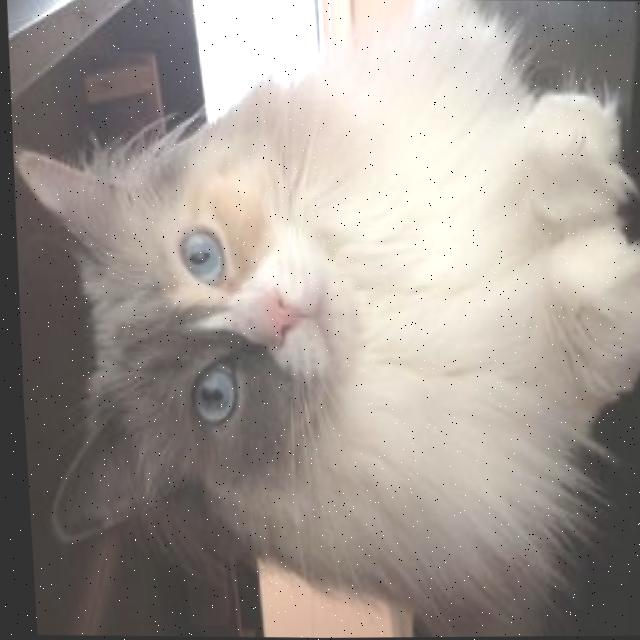Ragdoll: (0, 0, 640, 638)
